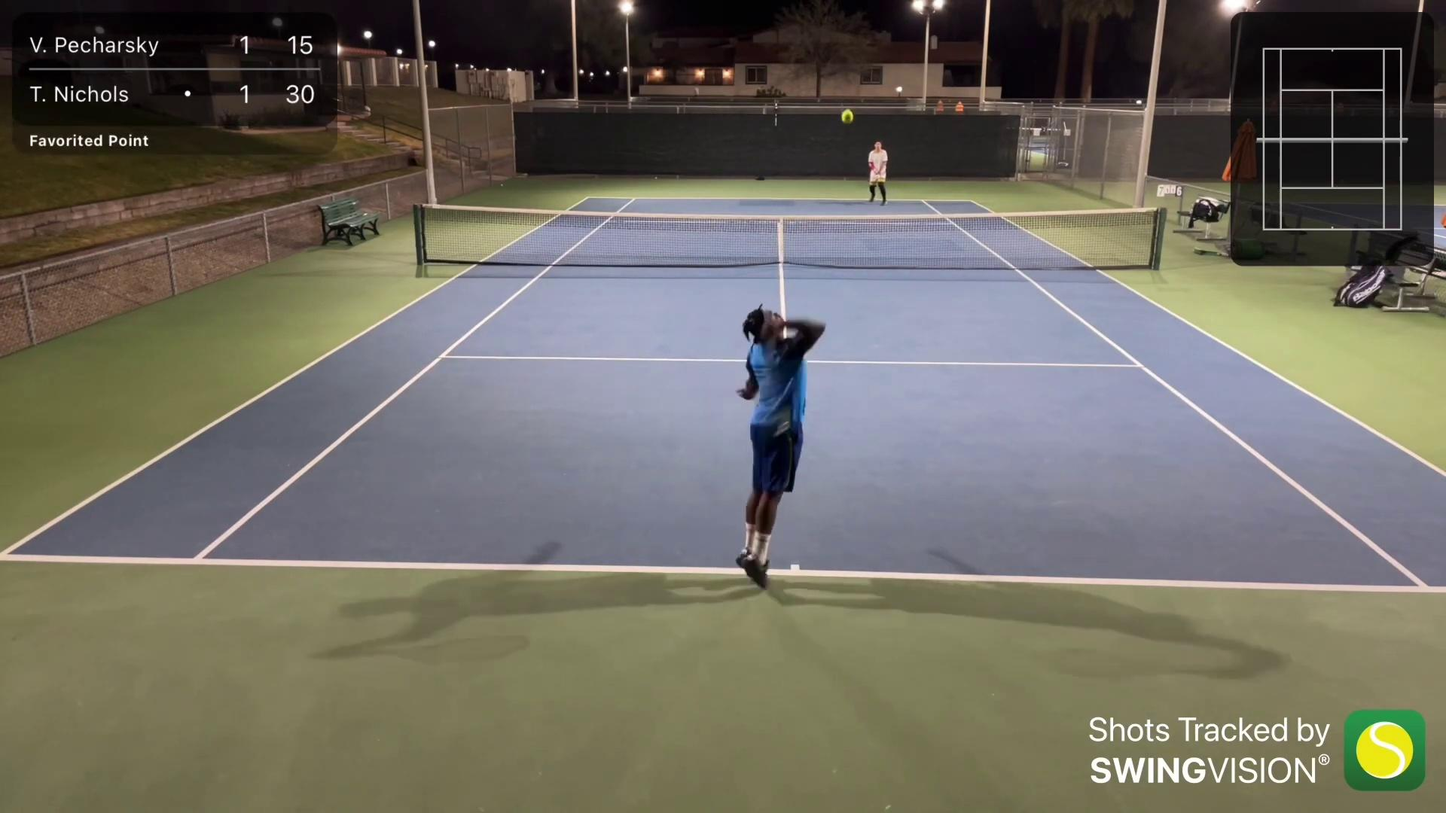ball: (841, 108, 856, 123)
